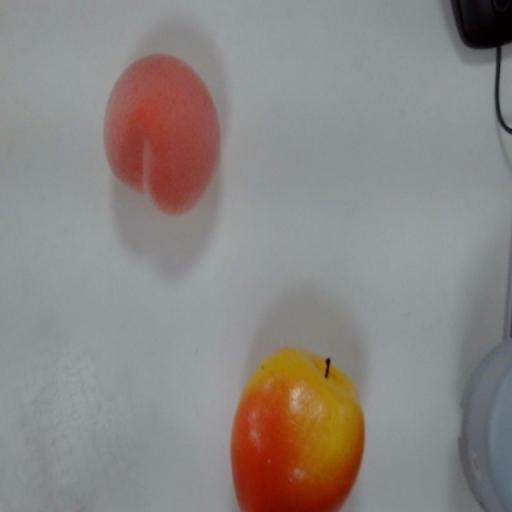Ripe: (224, 341, 372, 512), (101, 48, 226, 220)
